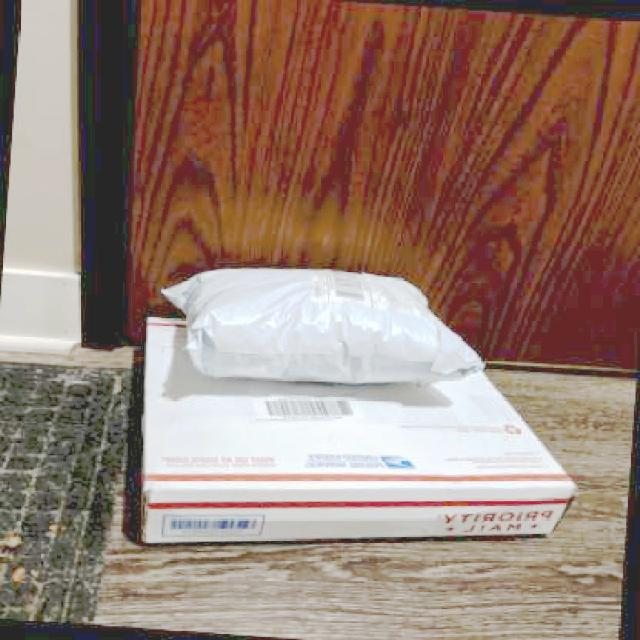Box: (115, 310, 590, 587), (149, 251, 497, 404)
